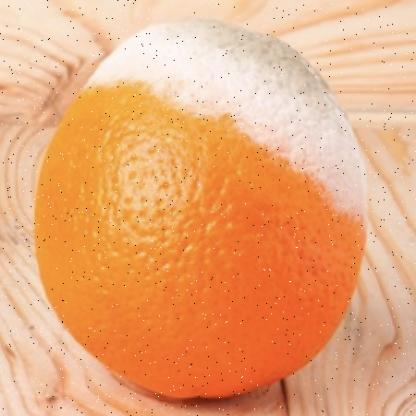rotten: (39, 22, 370, 398)
